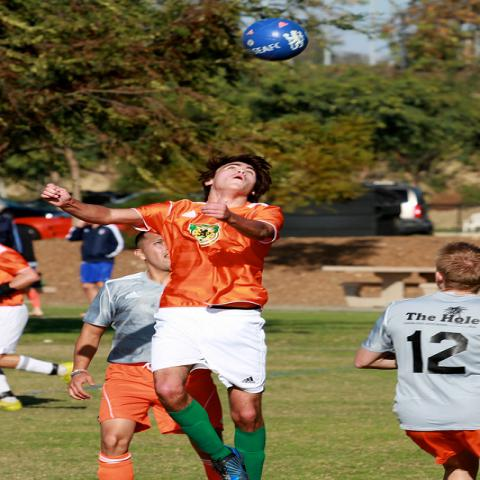car: (11, 187, 165, 242), (281, 182, 434, 237)
